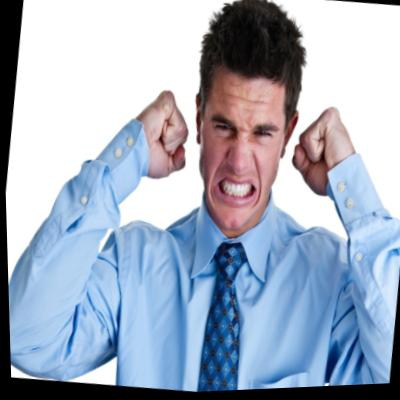angry: (184, 55, 291, 233)
